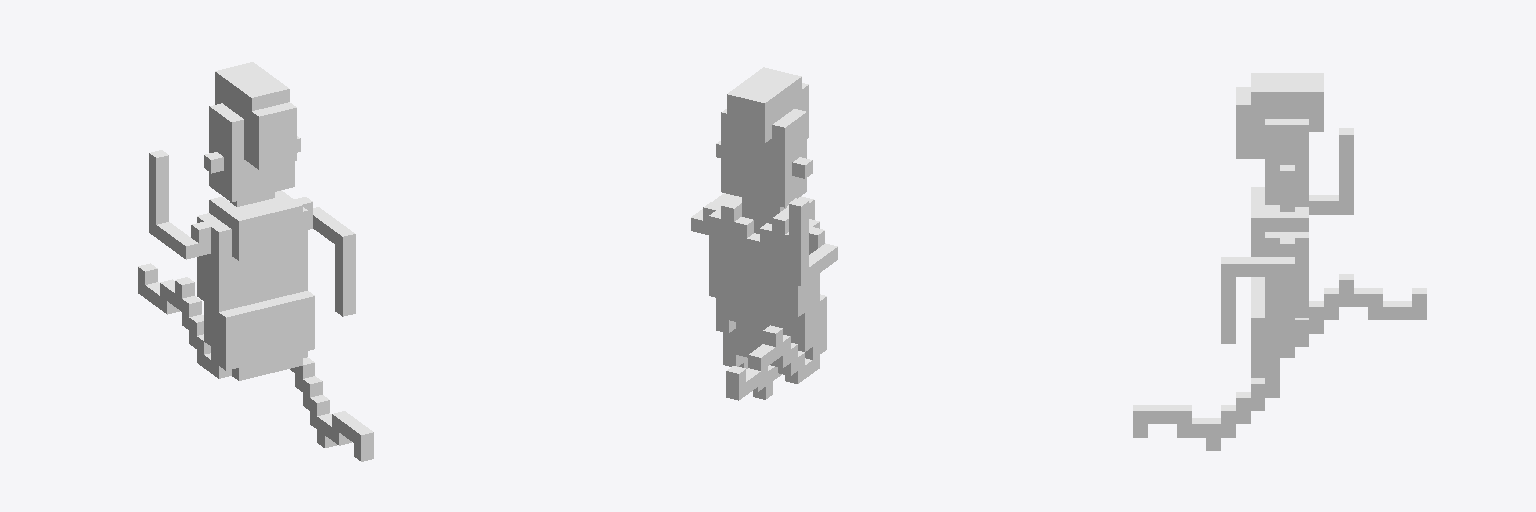
File: character_One_Run1-00.obj
3 views of the same model, side by side, from view 1: azimuth 30°, elevation 25°; view 2: azimuth 150°, elevation 25°; view 3: azimuth 270°, elevation 25° (orthographic).
Size of the model in its own units: 11 by 26 by 20.